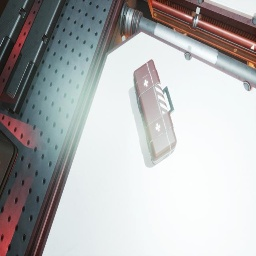FirstAidBox ,: (133, 59, 177, 165)
